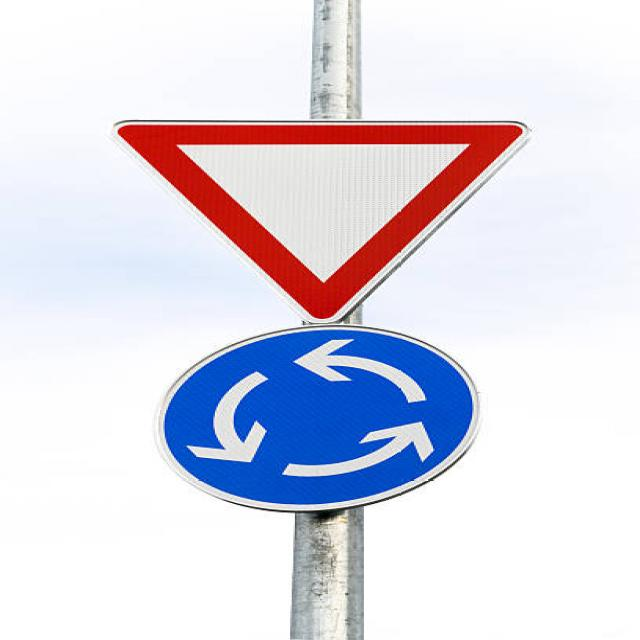give_way: (97, 105, 566, 328)
